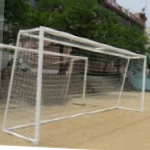goals: (2, 25, 148, 145)
